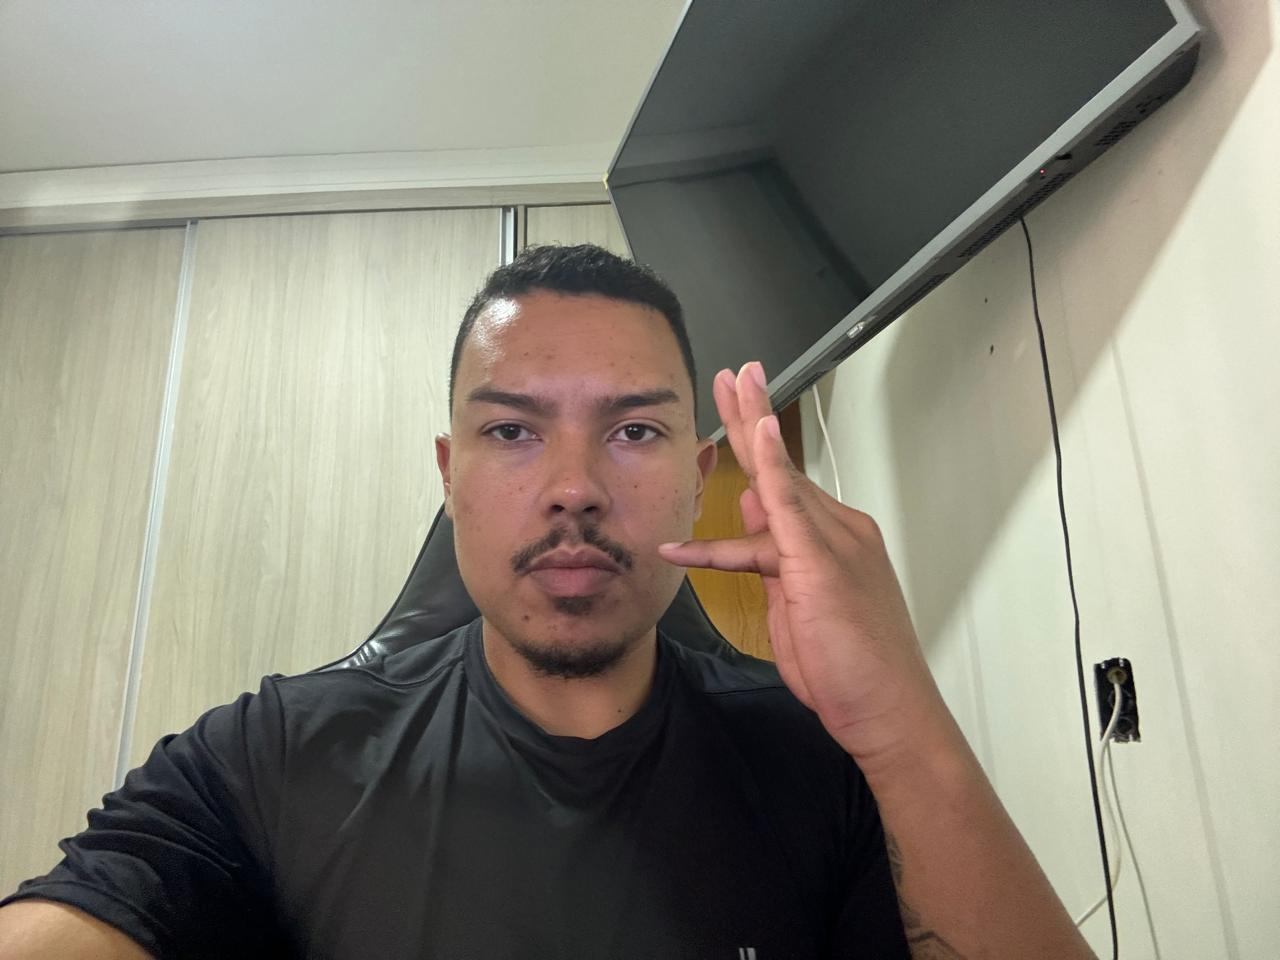f: (650, 349, 975, 750)
